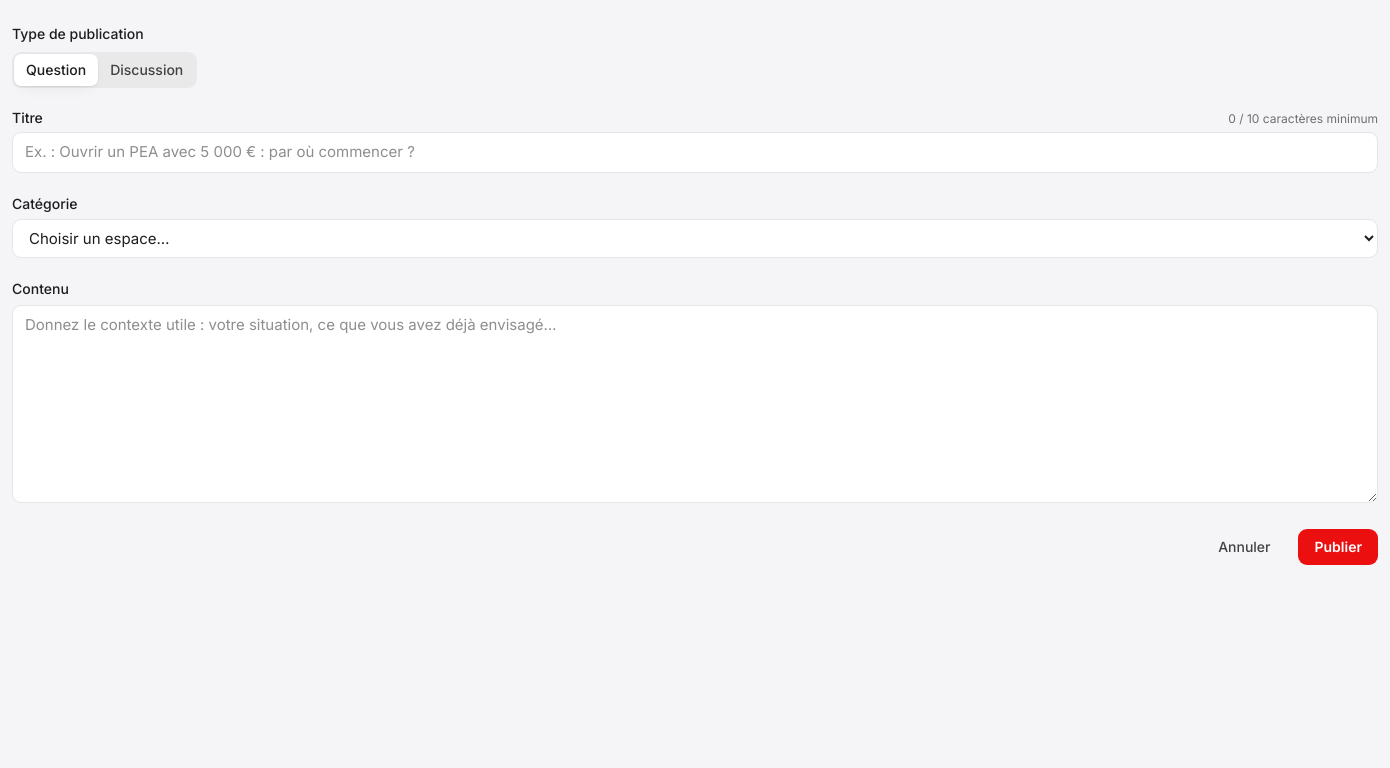
Test case: NewDiscussionForm › affiche les erreurs de validation sans appeler le serveur
The image size is (1390, 768).
In the field labelled "Titre": {"x": 695, "y": 152} [12,132,1378,172], type "Court"
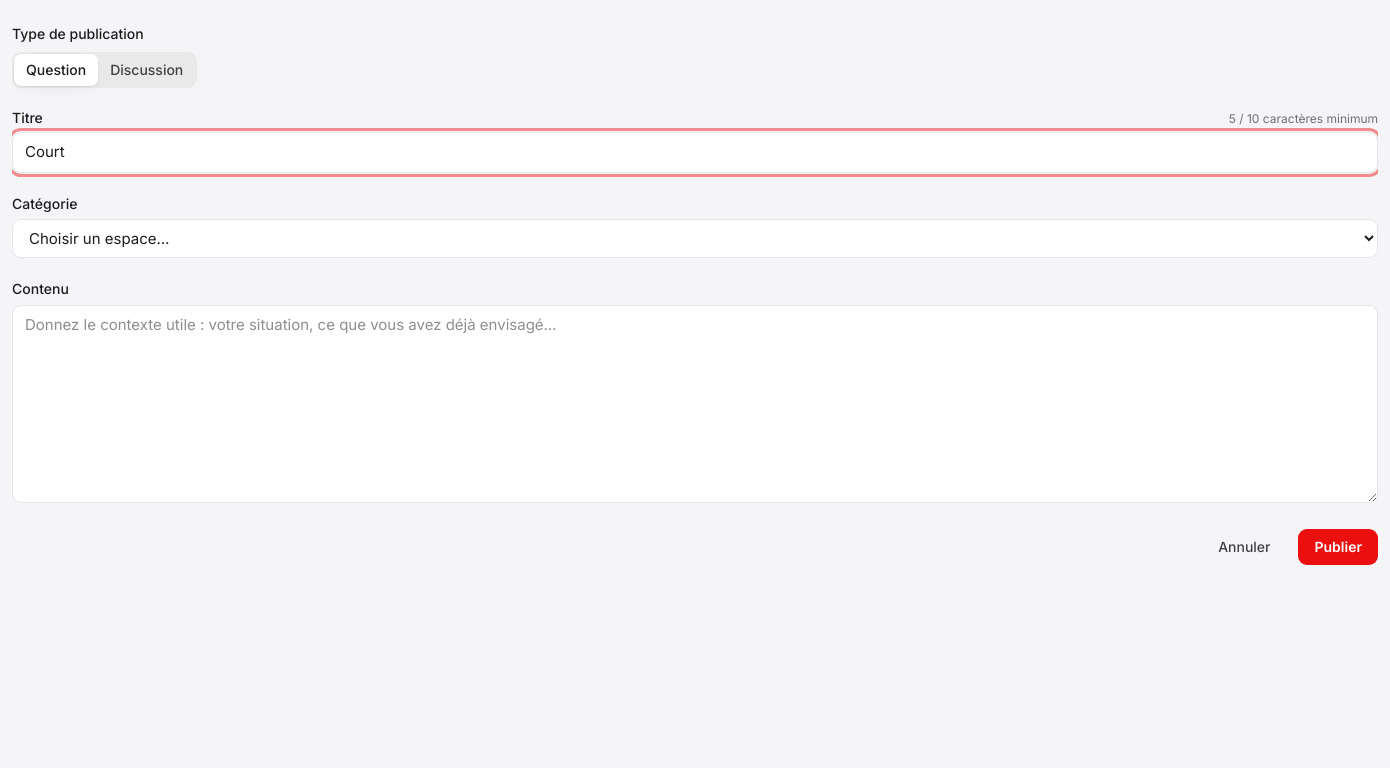
Click the button "Publier": {"x": 1338, "y": 547} [1298,529,1378,565]
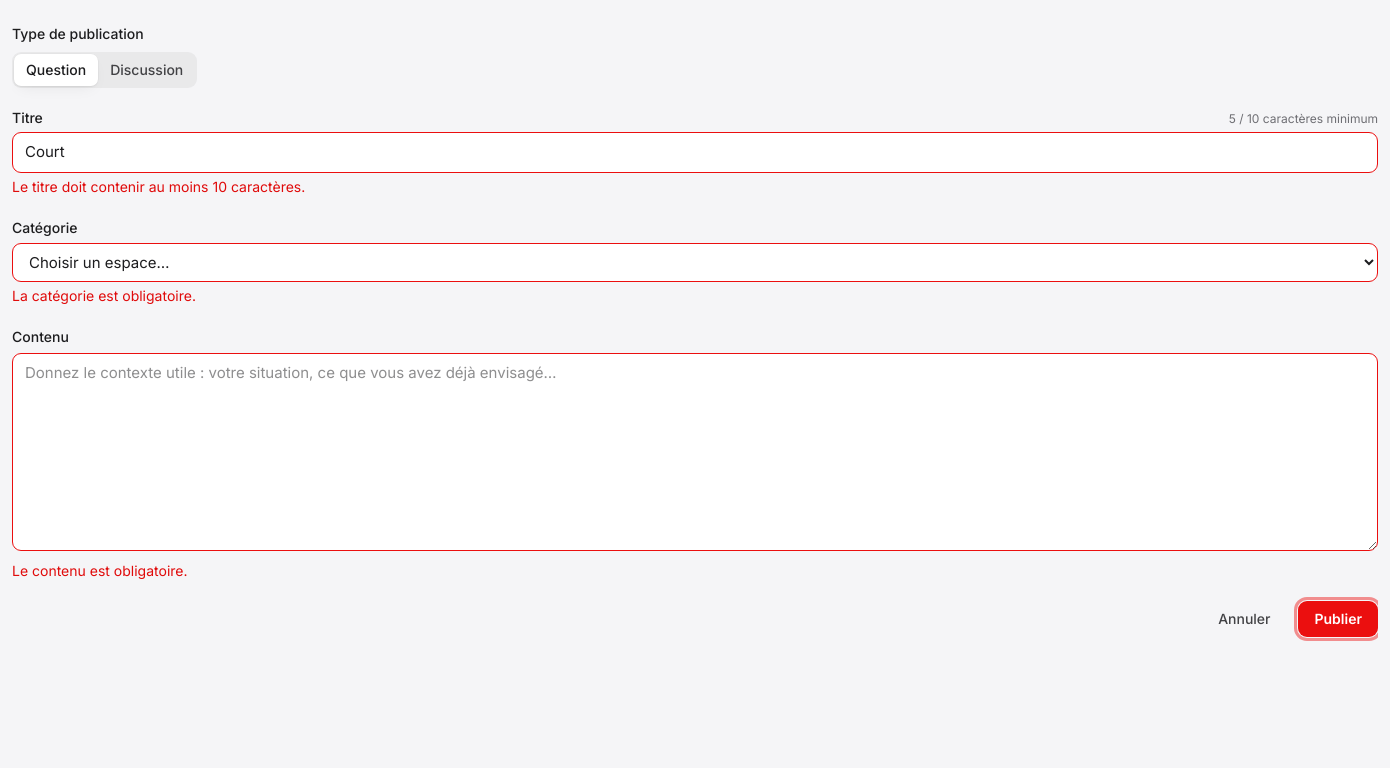
expect the text "Le titre doit contenir au moins 10 caractères." is shown: met, box [12,178,305,194]
expect the text "Le contenu est obligatoire." is shown: met, box [12,562,188,579]
expect the text "La catégorie est obligatoire." is shown: met, box [12,287,196,304]
